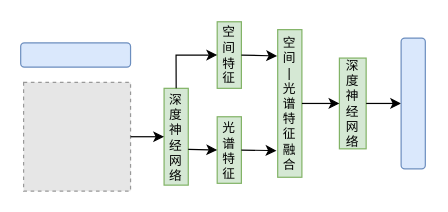
Some shapes in this 448 by 212 pixel diagram are drawn without their labels. Grey dashed boxes stand in for pictures. The centre of each missing label's shape, as x and y in pixels:
"HSI 输入" goes at (x=75, y=54).
"目标识别以及定位" goes at (x=412, y=103).
